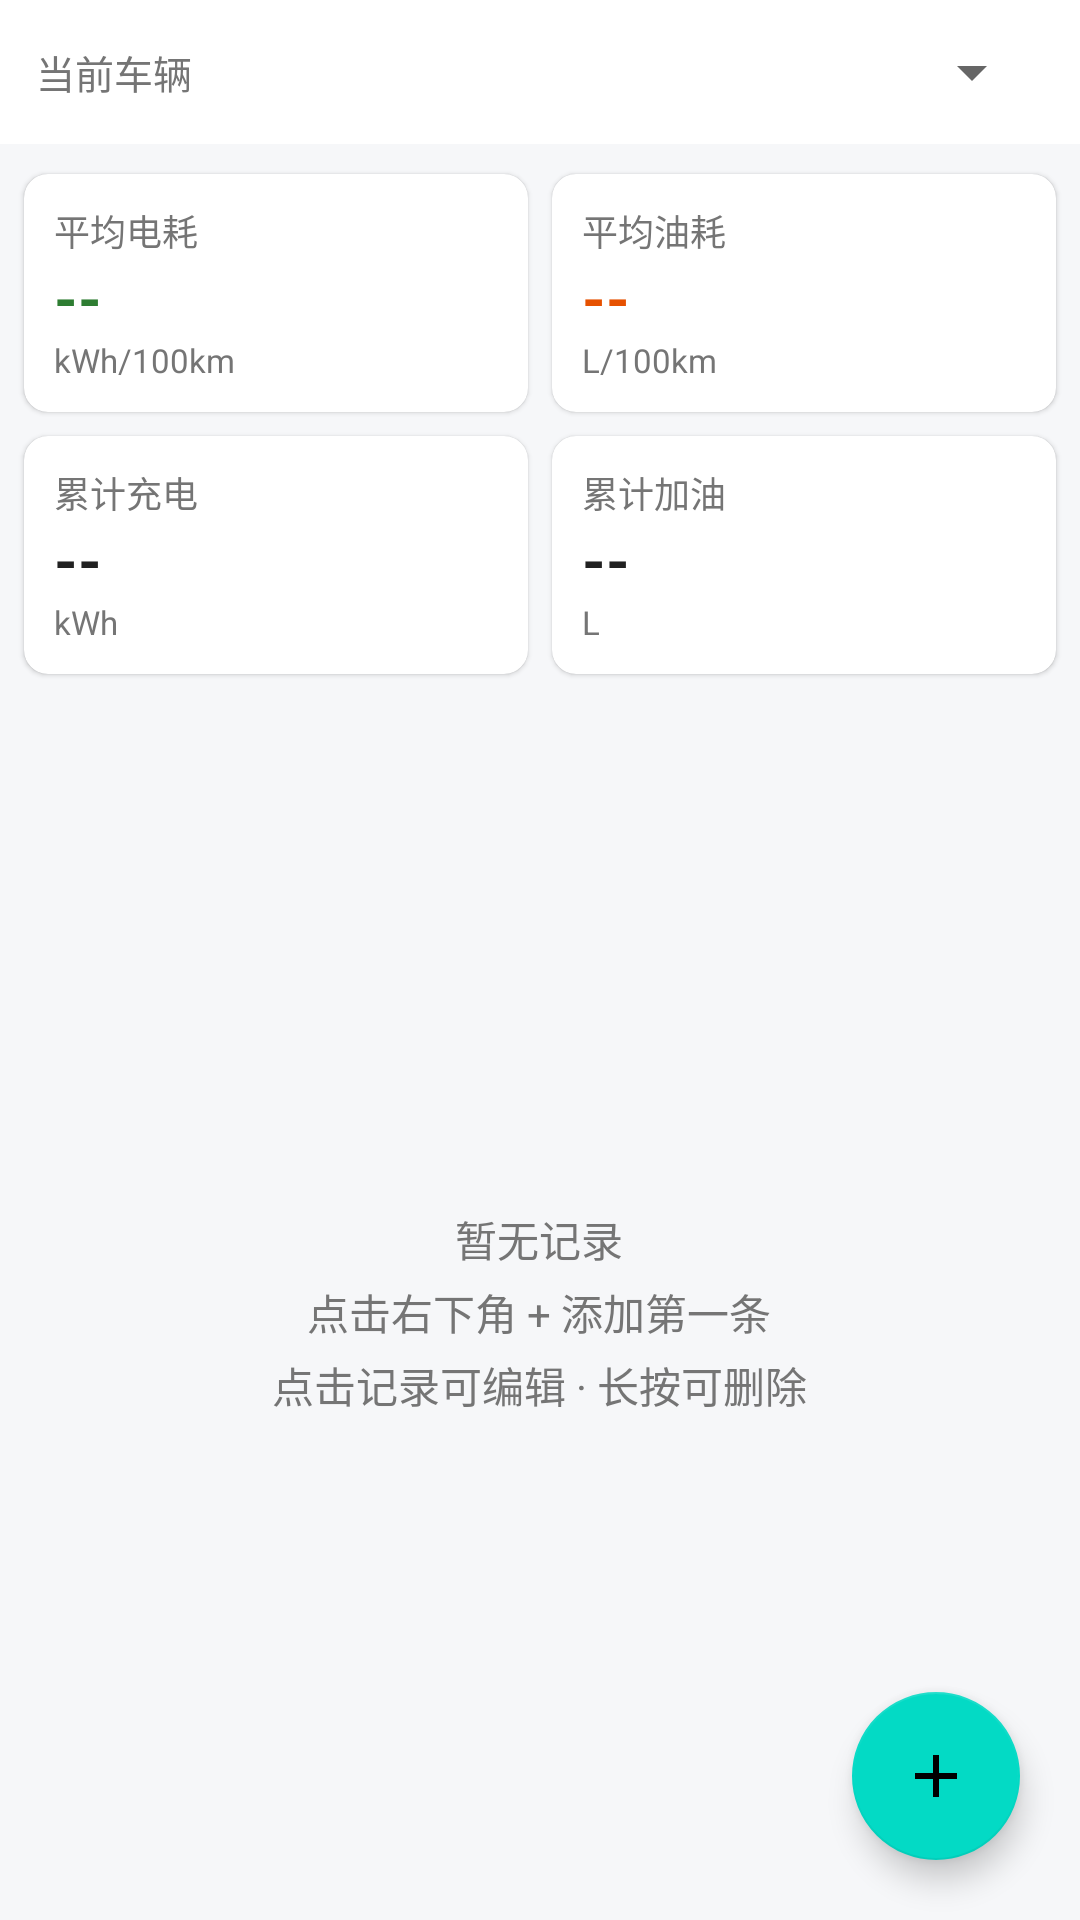

Screen size 1080px x 1920px. Icon name, then its center in pixels as [x,y]:
添加记录: [936,1776]
